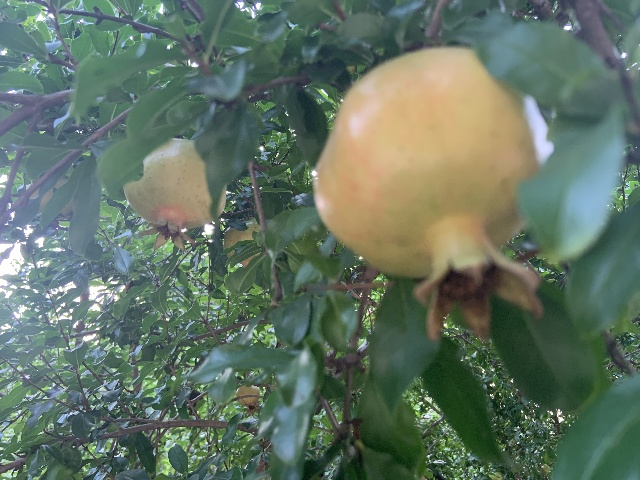mid-growth: (312, 46, 547, 346), (123, 138, 226, 253), (222, 218, 259, 267), (235, 384, 261, 413)
